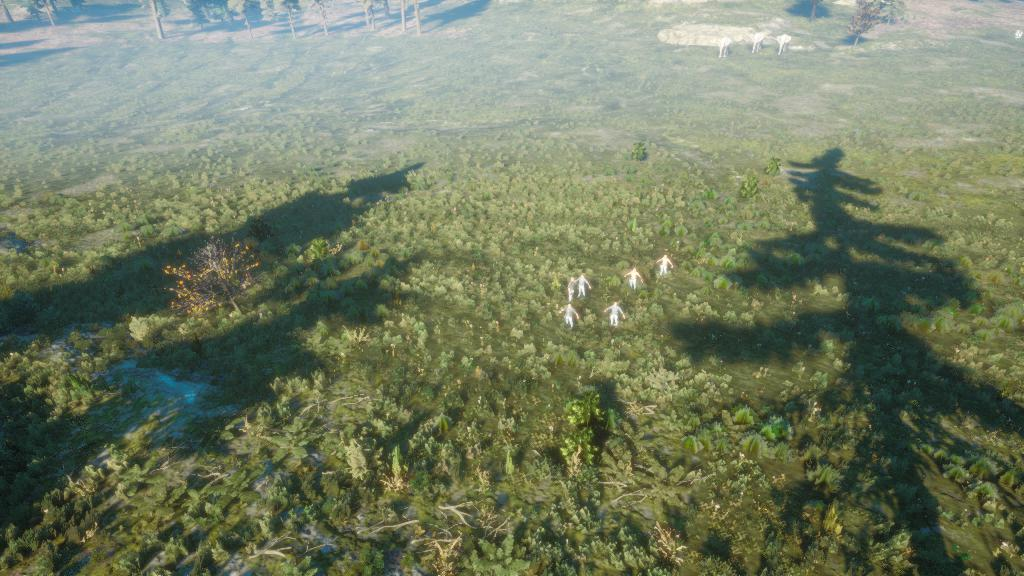elephant: (709, 21, 737, 72), (747, 20, 768, 63), (774, 22, 797, 61)
human: (602, 294, 634, 337), (554, 300, 589, 339), (651, 248, 684, 285), (619, 263, 649, 298), (570, 266, 598, 303)
